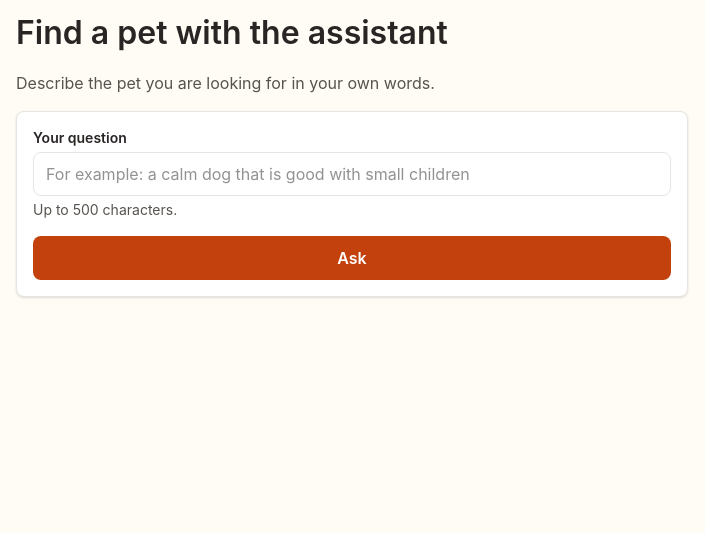
it: AssistantPage › shows the answer and the empty state with a link to all ads when the server returns no ads
Type "a calm dog" into the field labelled "Your question" at (352,174), box [33,152,671,196]
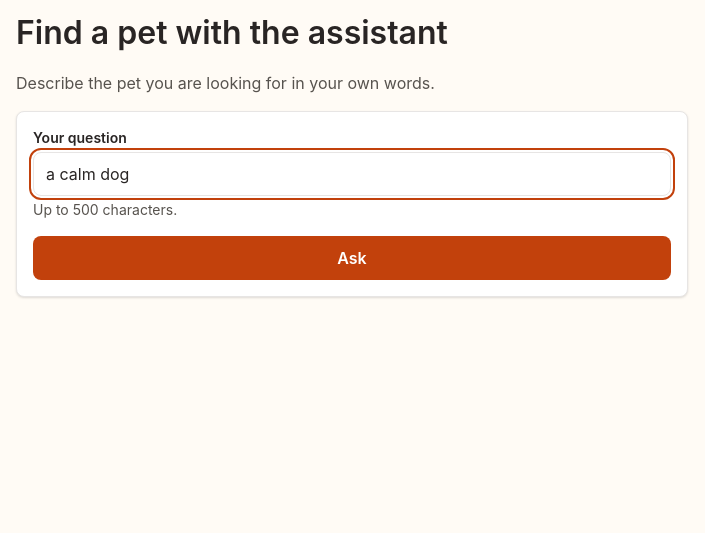
Click the button "Ask" at (352,258), box [33,236,671,280]
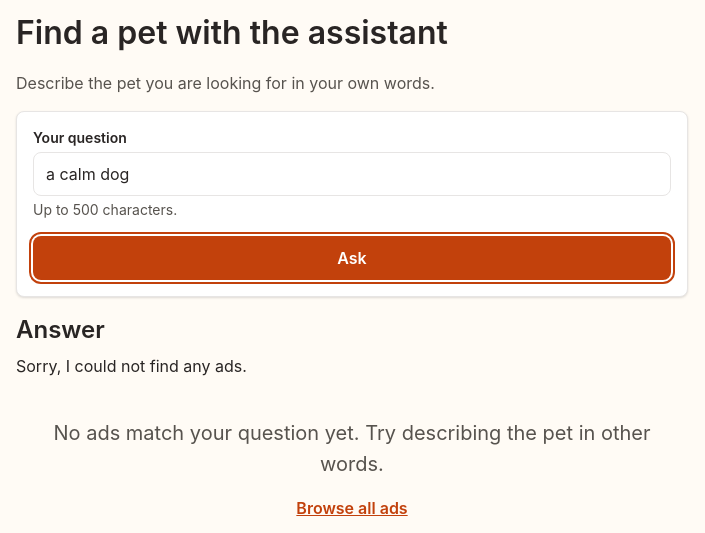
Now the text "Sorry, I could not find any ads." is shown, box [16,356,247,376]
Now the text "No ads match your question yet. Try describing the pet in other words." is shown, box [40,418,664,480]
